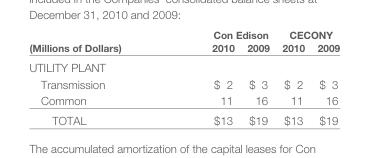table: (28, 28, 339, 126)
table column: (28, 28, 166, 126), (166, 28, 240, 126), (240, 28, 275, 126), (275, 28, 310, 126), (310, 28, 339, 126)
table column header: (28, 28, 339, 56)
table projected row header: (28, 56, 339, 75)
table row: (28, 56, 339, 75), (28, 91, 339, 109), (28, 109, 339, 126), (28, 40, 339, 56), (28, 75, 339, 91), (28, 28, 339, 40)
table spanning cell: (28, 28, 166, 56), (166, 28, 275, 40), (275, 28, 339, 40)
